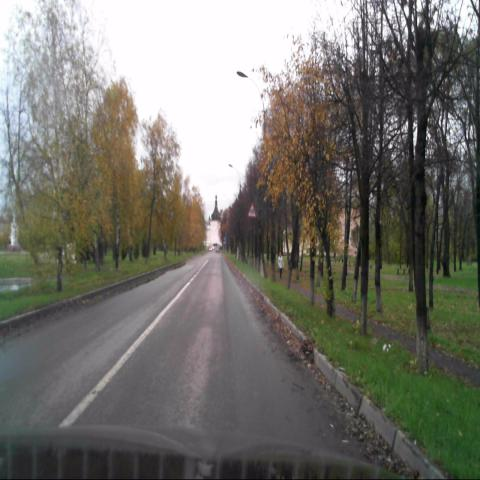1_23: (248, 203, 256, 218)
